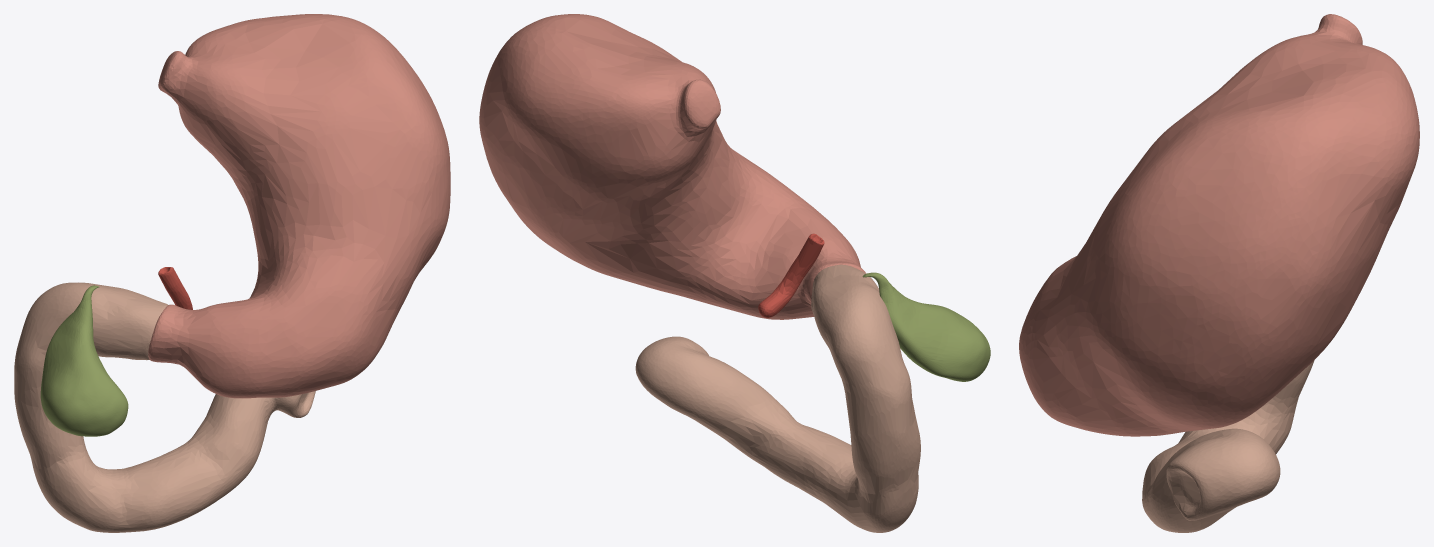
File: hepatobiliary-context.glb
3 renders of one model, left to right at view 1: azimuth 30°, elevation 25°; view 2: azimuth 150°, elevation 25°; view 3: azimuth 270°, elevation 25°, orthographic. The views are drawn at different scales.
Parts seen in each view (by area): view 1: FMA7148, FMA7206, FMA7202, FMA14771; view 2: FMA7148, FMA7206, FMA7202, FMA14771; view 3: FMA7148, FMA7206.
Boxes of the visible parts, x1,y1,x2,y2 form: FMA7148: (148, 14, 450, 398); FMA7206: (14, 282, 315, 532); FMA7202: (40, 285, 128, 436); FMA14771: (158, 267, 192, 309); FMA7148: (479, 14, 866, 319); FMA7206: (635, 264, 920, 532); FMA7202: (862, 272, 990, 381); FMA14771: (758, 233, 824, 317); FMA7148: (1019, 14, 1419, 436); FMA7206: (1142, 360, 1314, 532).
Bounding box in the file's own units: 0.187 × 0.1783 × 0.1152.
